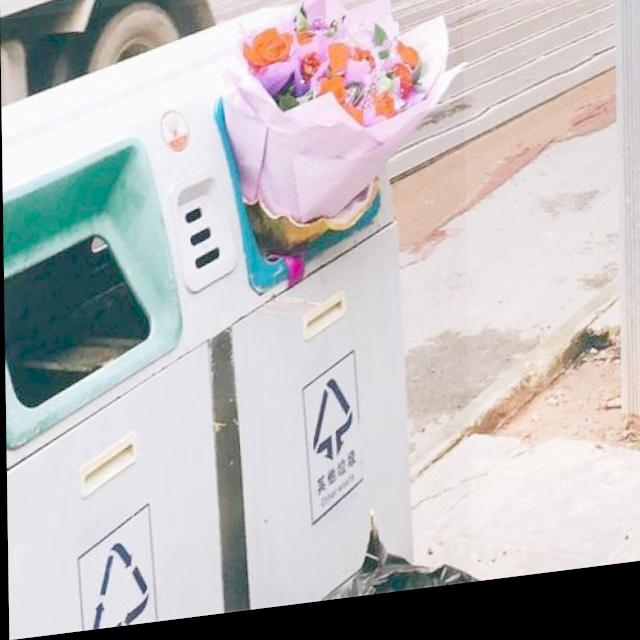overflow: (0, 0, 469, 638)
